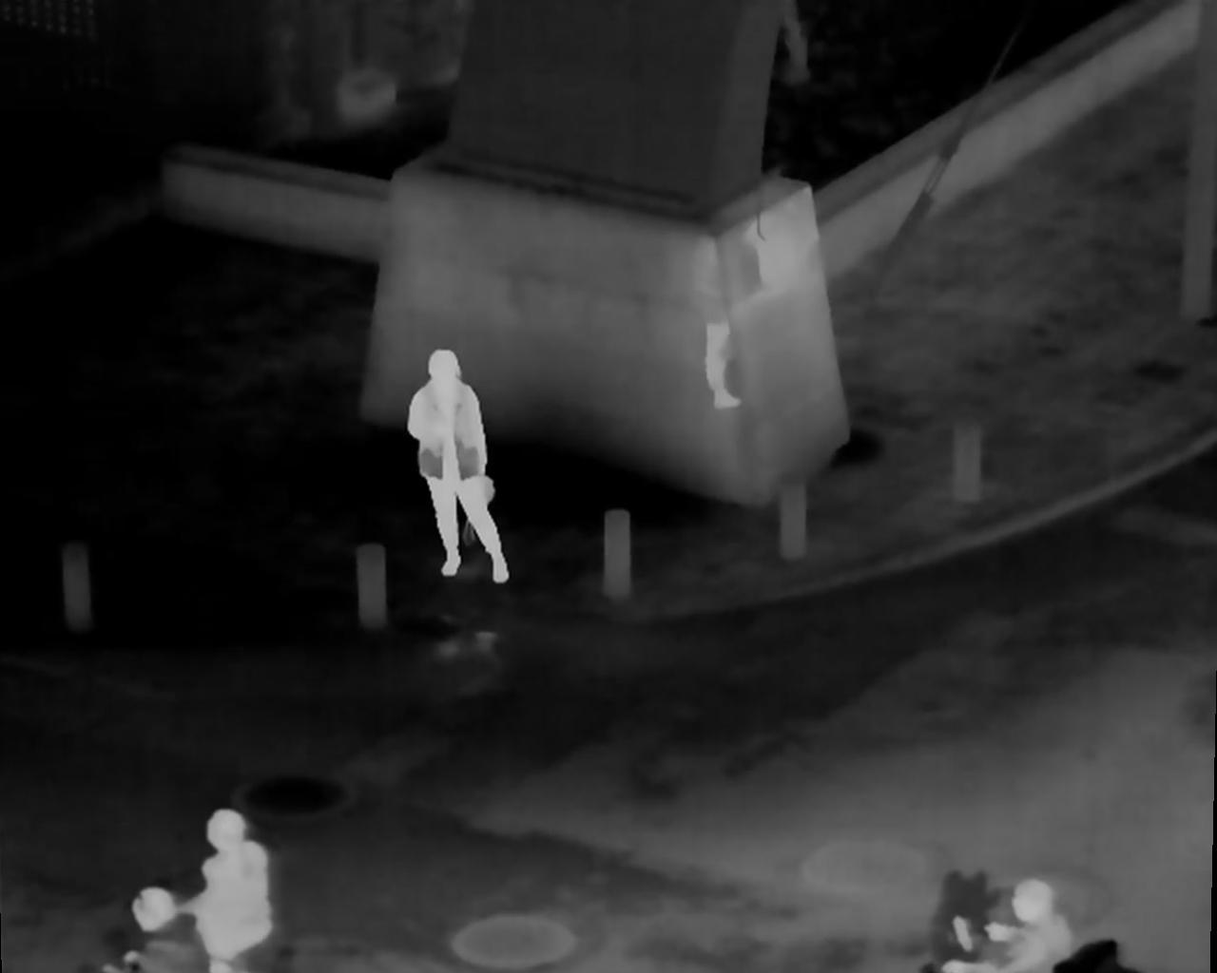person: (410, 350, 511, 591), (192, 812, 284, 973), (956, 877, 1075, 973), (130, 887, 204, 973)
